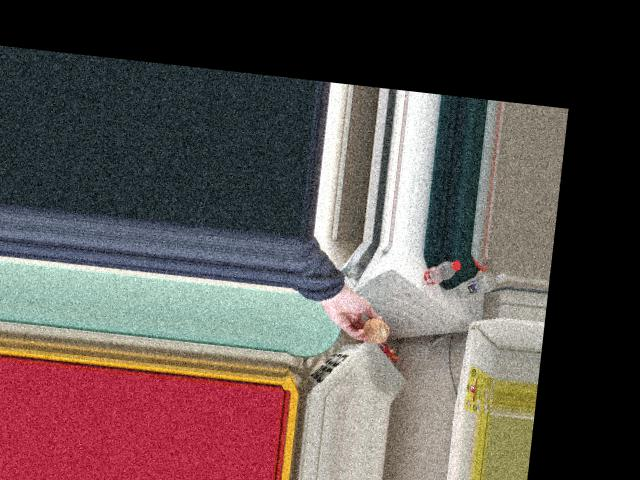sweet_potato: (359, 317, 389, 342)
